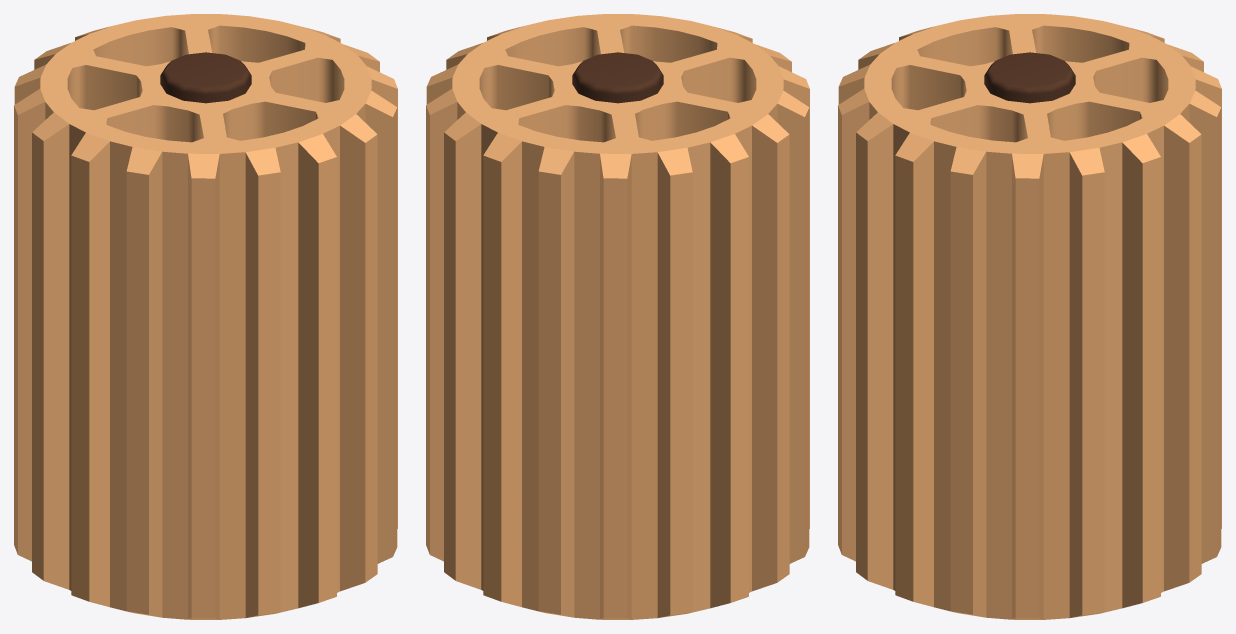
The model's file is box_1_gear_001.fbx.
3 renders of one model, left to right at view 1: azimuth 30°, elevation 25°; view 2: azimuth 150°, elevation 25°; view 3: azimuth 270°, elevation 25°, orthographic.
Parts seen in each view (by area): view 1: box_1_gear_001; view 2: box_1_gear_001; view 3: box_1_gear_001.
Part boxes in pixels (bbox=[...]): box_1_gear_001: bbox=[14, 14, 397, 619]; box_1_gear_001: bbox=[426, 14, 809, 619]; box_1_gear_001: bbox=[838, 14, 1221, 619].
Bounding box in the file's own units: 149 × 149 × 212.
